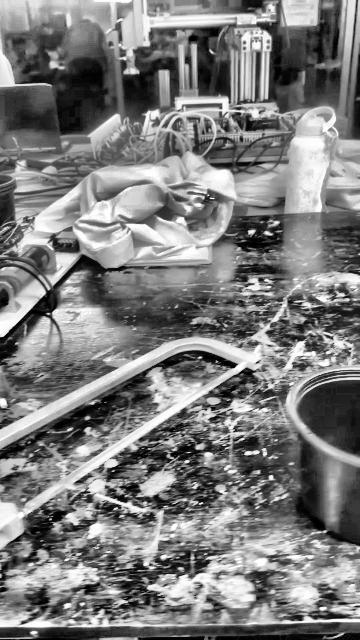pot: (287, 367, 359, 544), (0, 172, 16, 226)
